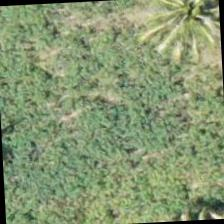Kelapa_Sawit: (142, 0, 221, 54)
